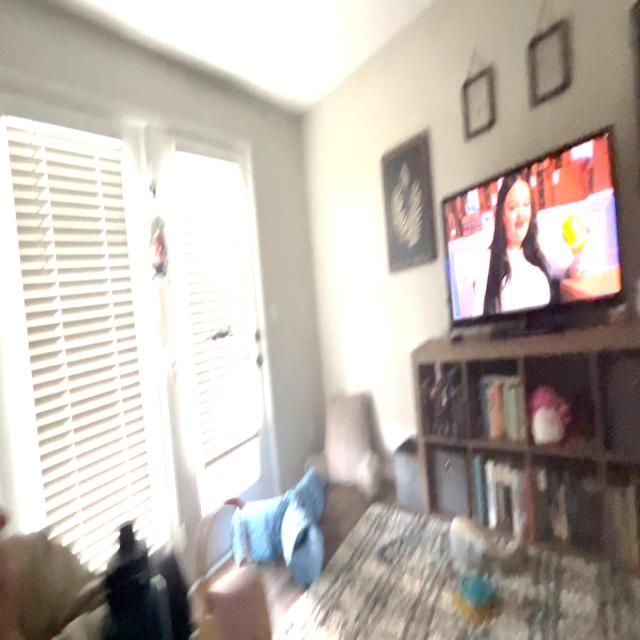drone: (198, 320, 243, 358)
